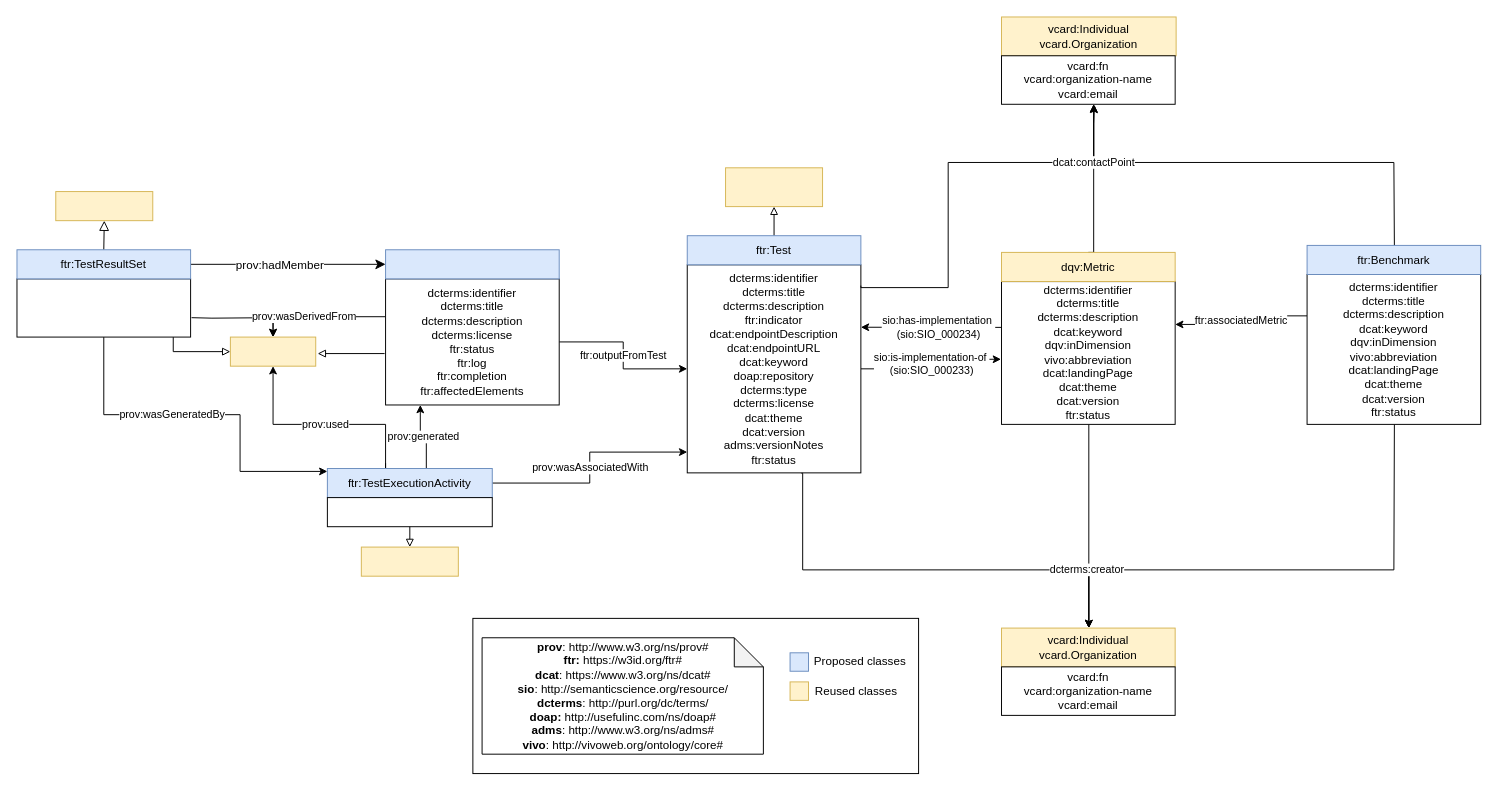
This 1498x791 diagram has some shape labels left out. Each missing label, with the box of its shape:
dcat:DataService prov:Agent: (725, 167, 823, 207)
dcterms:identifier dcterms:title dcterms:license: (16, 278, 191, 337)
ftr:TestResult: (385, 249, 559, 279)
prov:Activity: (360, 546, 458, 576)
prov:Collection: (55, 191, 153, 221)
prov:Entity: (229, 336, 316, 366)
